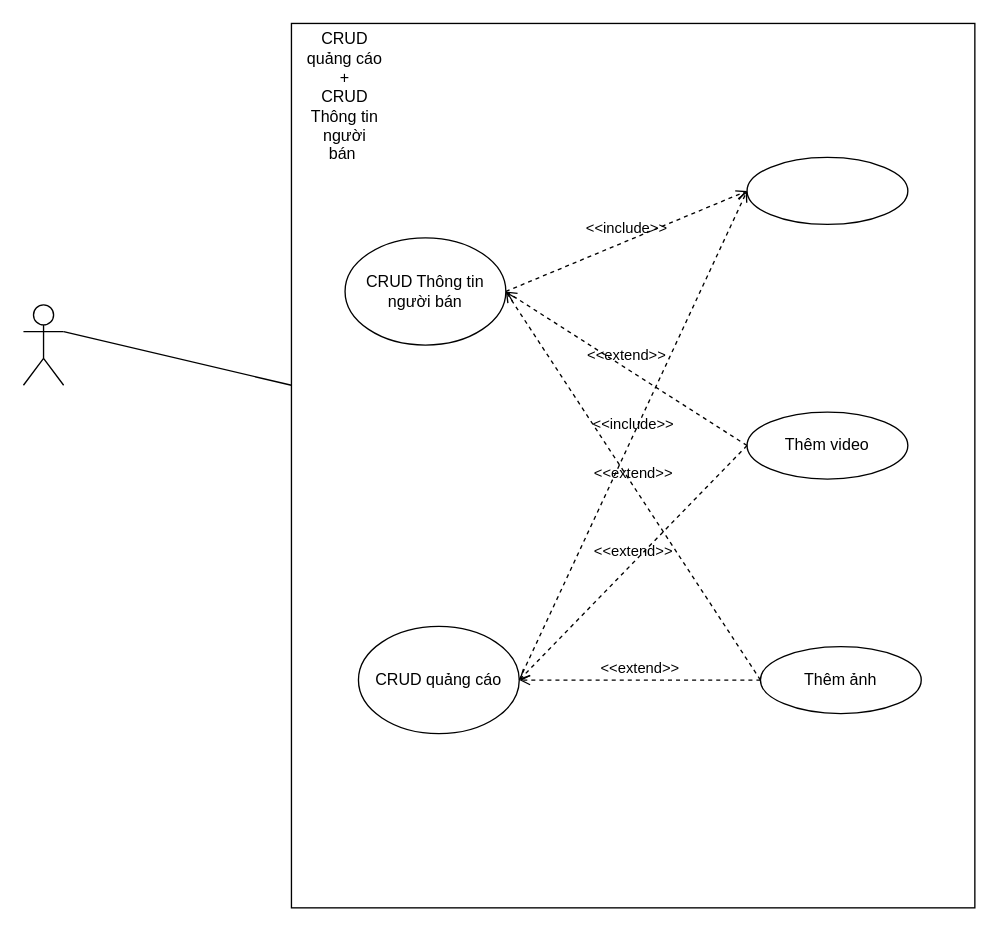
Some shapes in this 998 by 931 pixel diagram are drawn without their labels. Each missing label, with the centre of its shape:
"Kiểm tra định dạng thông tin" belongs at point (827, 190).
"User" belongs at point (43, 344).
